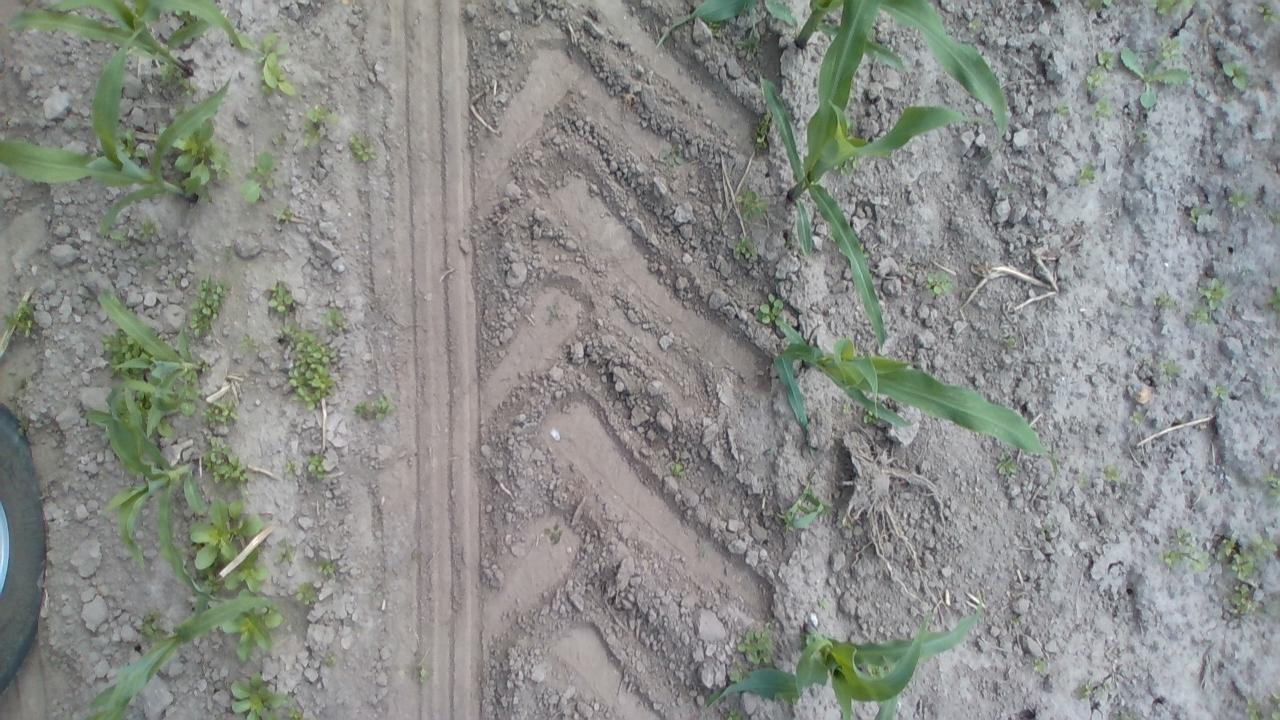Maize: (759, 34, 982, 352), (0, 28, 234, 241), (774, 314, 1059, 481), (701, 595, 982, 720), (762, 0, 1009, 136), (102, 388, 220, 602), (84, 595, 272, 720), (8, 1, 261, 75), (95, 290, 206, 438), (654, 0, 756, 49), (778, 481, 835, 532)
Weeds: (276, 316, 336, 413), (188, 496, 262, 569), (173, 122, 230, 204), (1119, 46, 1190, 110), (1214, 532, 1280, 584), (225, 672, 288, 720), (222, 614, 284, 661), (188, 276, 230, 338), (205, 437, 250, 488), (1160, 528, 1209, 574), (240, 152, 276, 204), (260, 51, 298, 99), (236, 30, 290, 63), (222, 556, 266, 593), (303, 103, 335, 151), (1, 298, 38, 338), (736, 626, 774, 664), (734, 186, 770, 226), (1218, 584, 1260, 616), (752, 291, 786, 329), (352, 394, 392, 422), (1194, 276, 1230, 307), (198, 397, 238, 424), (348, 129, 379, 163), (732, 28, 762, 62), (99, 332, 138, 358), (752, 110, 773, 156), (136, 608, 166, 640), (730, 230, 760, 262), (1220, 61, 1251, 90), (266, 282, 294, 312), (925, 268, 955, 296), (1146, 0, 1198, 16), (1078, 680, 1114, 702), (292, 578, 319, 606), (322, 304, 347, 334), (123, 127, 146, 159), (995, 448, 1020, 476), (1090, 93, 1113, 122), (1159, 36, 1184, 62), (274, 540, 298, 567), (1156, 288, 1181, 312), (660, 142, 686, 165), (400, 662, 427, 684), (1186, 304, 1212, 326), (154, 62, 182, 82), (1226, 188, 1251, 210), (139, 252, 164, 274), (1259, 472, 1280, 498), (314, 557, 342, 576), (1188, 204, 1210, 226), (305, 453, 324, 478), (136, 214, 157, 236), (175, 380, 196, 402), (1078, 163, 1096, 188), (1088, 66, 1104, 94), (544, 302, 566, 322), (1097, 50, 1117, 72), (1258, 4, 1280, 24), (270, 206, 290, 228), (1211, 381, 1230, 404), (1242, 699, 1262, 720), (1162, 357, 1182, 378), (694, 538, 710, 562), (14, 412, 30, 436), (109, 228, 128, 248), (724, 666, 750, 680), (1266, 286, 1280, 312), (1266, 695, 1280, 720), (722, 707, 748, 720), (202, 571, 218, 592), (238, 334, 254, 354), (1104, 466, 1122, 483), (1083, 0, 1113, 10), (671, 463, 688, 480), (1056, 103, 1072, 121), (179, 78, 194, 97), (866, 664, 886, 678), (860, 409, 876, 426), (1038, 523, 1054, 539), (1076, 473, 1092, 488), (288, 705, 304, 720), (1136, 128, 1152, 142), (1004, 331, 1017, 348), (1030, 656, 1044, 671), (708, 20, 721, 36), (1008, 616, 1026, 627), (816, 596, 832, 608), (222, 248, 234, 264), (1128, 411, 1142, 424), (285, 459, 295, 475), (198, 357, 208, 373), (968, 18, 980, 30), (170, 274, 182, 286), (324, 650, 336, 662), (840, 402, 853, 413), (764, 618, 776, 628), (20, 376, 30, 388), (1273, 211, 1280, 226), (1140, 356, 1150, 366), (845, 521, 854, 531)
